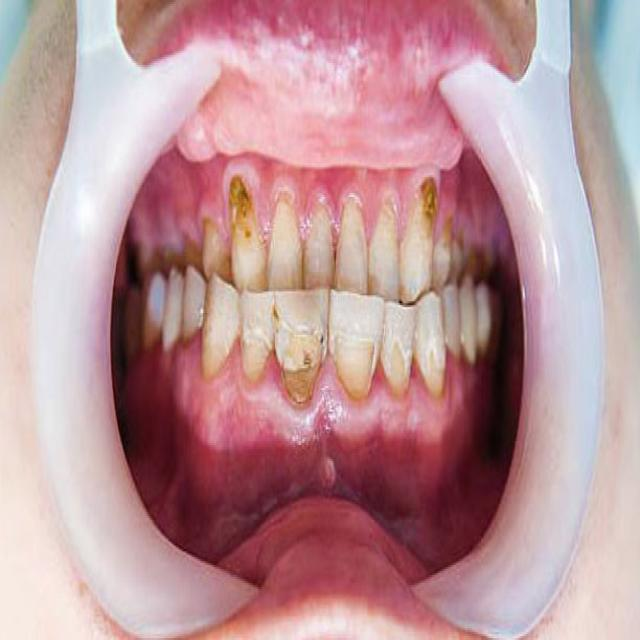caries: (277, 315, 322, 403), (333, 326, 375, 400), (387, 336, 411, 394)
